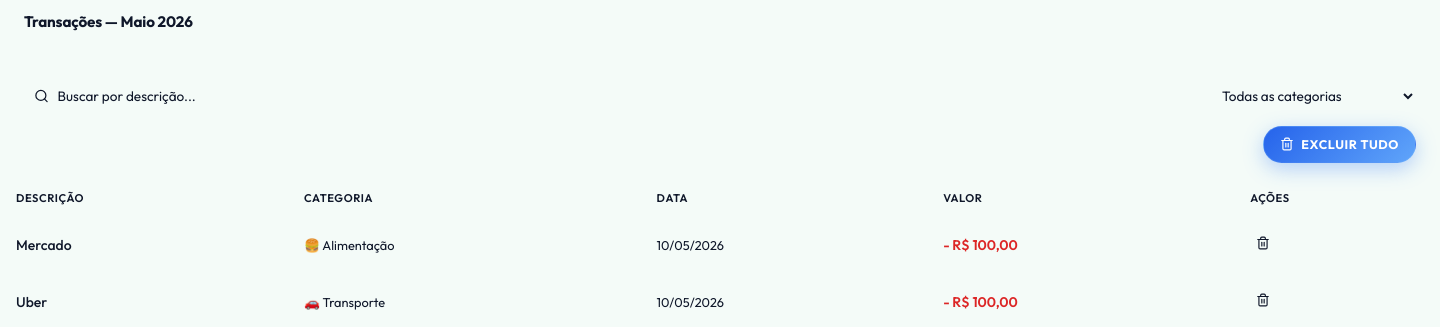
Scenario: TransactionList — filtro de categoria › filtra por categoria ao selecionar no select
Step 1. Select "🚗 Transporte" in the dropdown named "filtrar por categoria" → (1311, 96), box [1206,78,1416,114]
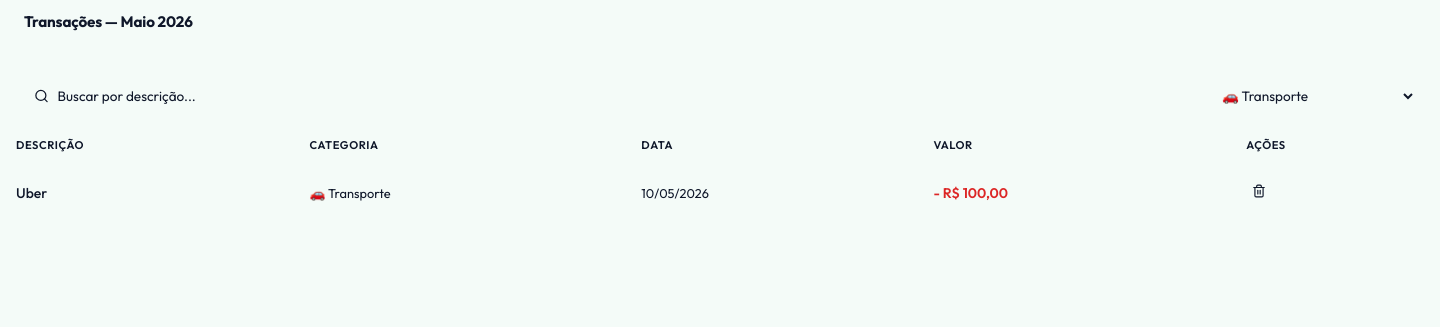
Expected: the text "Uber" is shown, [0,164,294,222]
Expected: the text "Mercado" is gone
